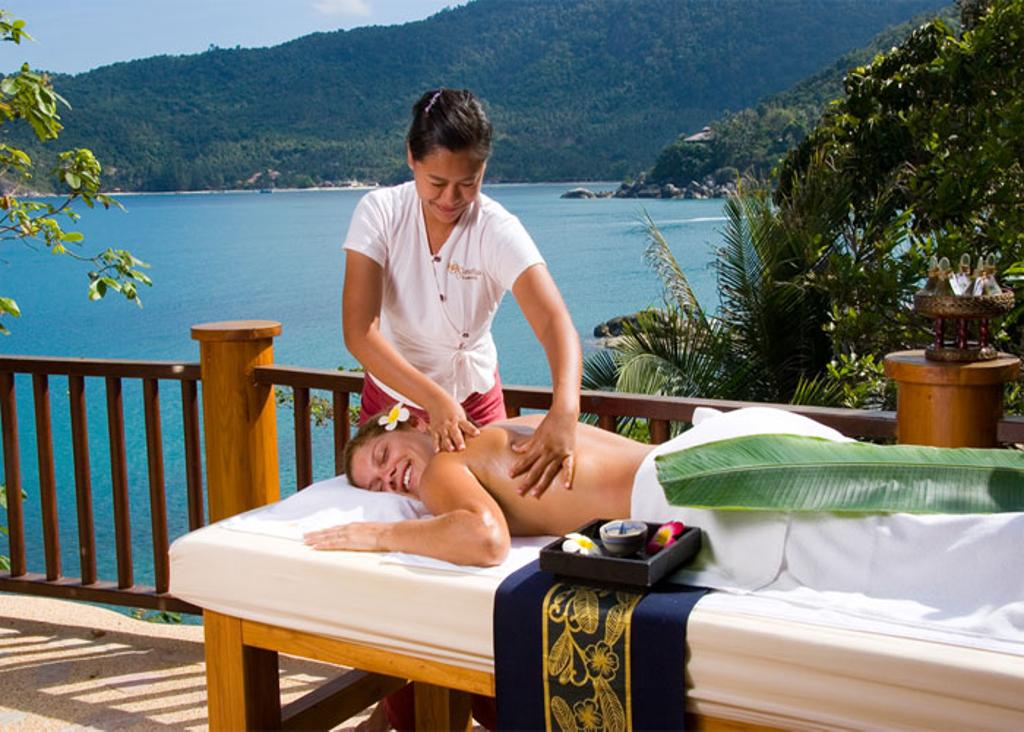face: (344, 432, 426, 498), (416, 150, 480, 222)
